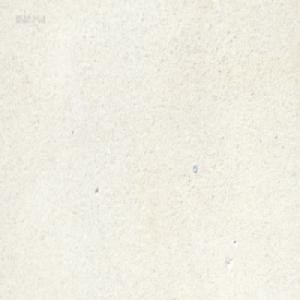Washer: (192, 164, 197, 173)
